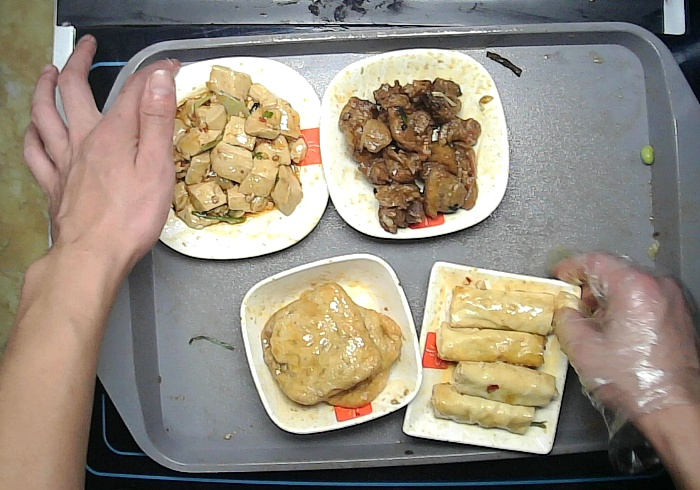SHKJ-Bai_Se_Cai_Die: (317, 46, 511, 240)
SHKJ-Bai_Se_Si_Fang_Cai_Die: (156, 52, 330, 262)
SHKJ-Bai_Se_Xiao_Fang_Die: (239, 252, 424, 434)
SHKJ-Si_Fang_Min: (401, 260, 583, 456)
